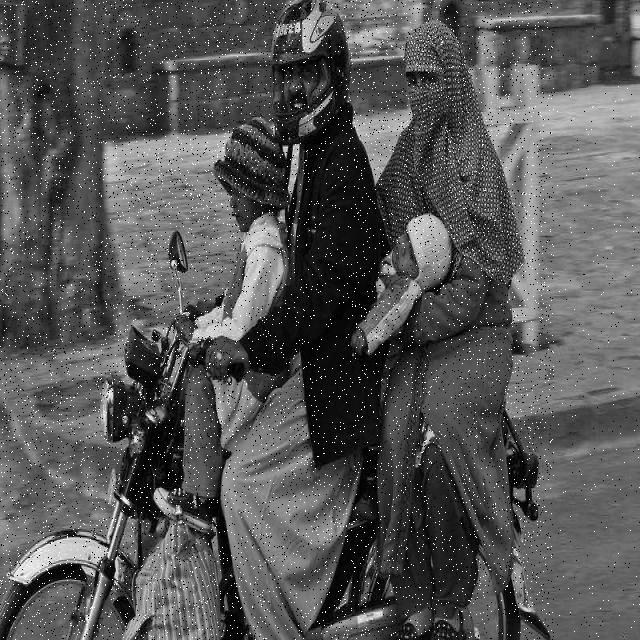Motorbike: (0, 0, 554, 640)
